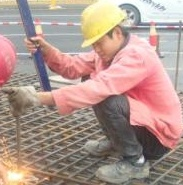boots: (82, 138, 114, 156), (0, 55, 11, 67)
gloves: (0, 84, 41, 117)
hard-hat: (79, 0, 126, 47)
ppe-suit: (0, 0, 23, 64)
